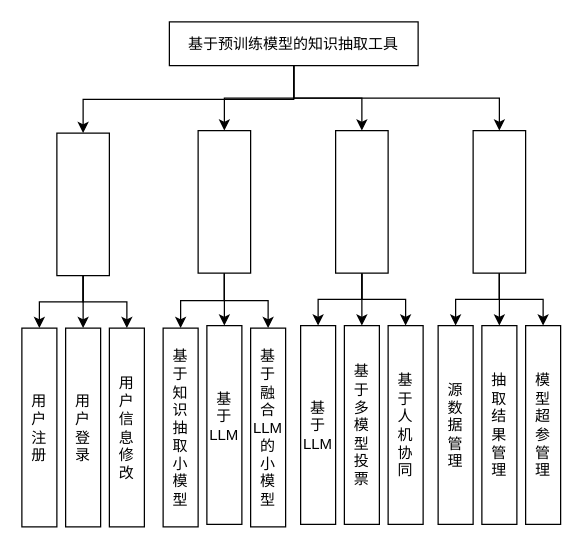
The diagram is 583 pixels wide and 549 high, and some of its shapes have lost their labels. The shapes that lost their labels are listed below. From the top down, each one's centre as x and y in pixels, then its label:
point (82, 204): 用 户 验 证
point (224, 201): 知 识 抽 取
point (361, 201): 结 果 融 合
point (499, 201): 数 据 管 理
